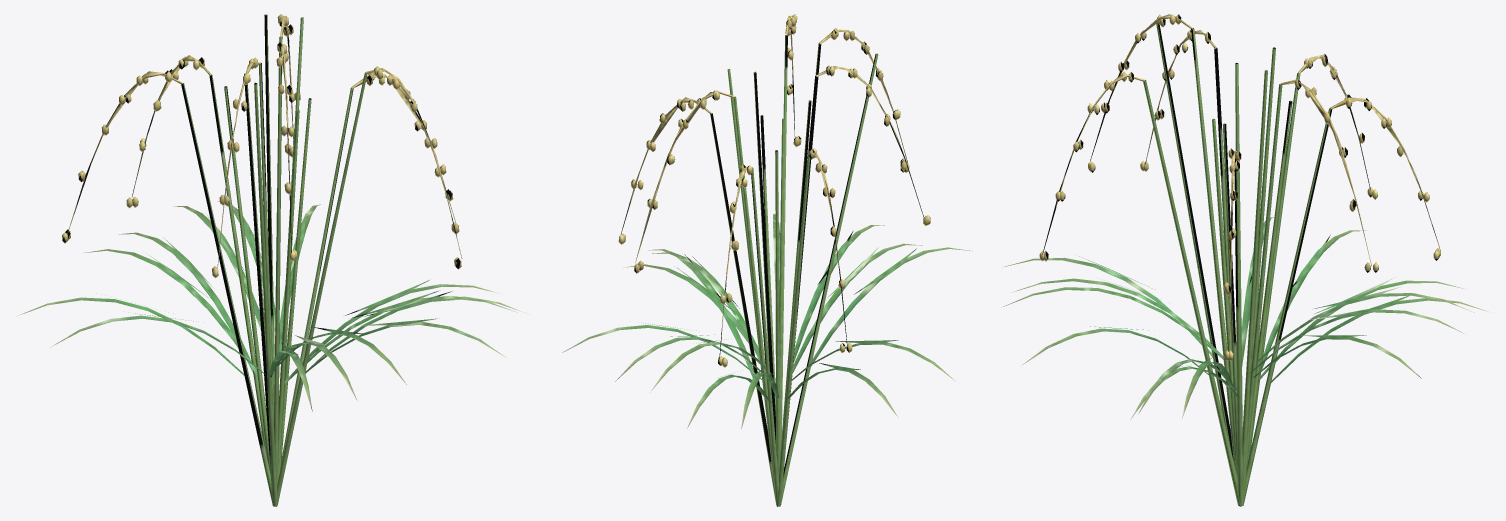
The model's file is arroz.glb.
The picture shows the model from 3 angles, left to right: view 1: azimuth 30°, elevation 25°; view 2: azimuth 150°, elevation 25°; view 3: azimuth 270°, elevation 25°; orthographic projection. The views are drawn at different scales.
Parts seen in each view (by area): view 1: arroz, arroz_lp; view 2: arroz, arroz_lp; view 3: arroz, arroz_lp.
Part boxes in pixels (bbox=[...]): arroz: bbox=[16, 14, 528, 506]; arroz_lp: bbox=[71, 14, 462, 354]; arroz: bbox=[562, 14, 969, 506]; arroz_lp: bbox=[621, 14, 924, 376]; arroz: bbox=[1003, 14, 1488, 506]; arroz_lp: bbox=[1041, 14, 1440, 367].
Bounding box in the file's own units: 0.8089 × 0.9354 × 0.8691.
2 materials, 2 textured.
